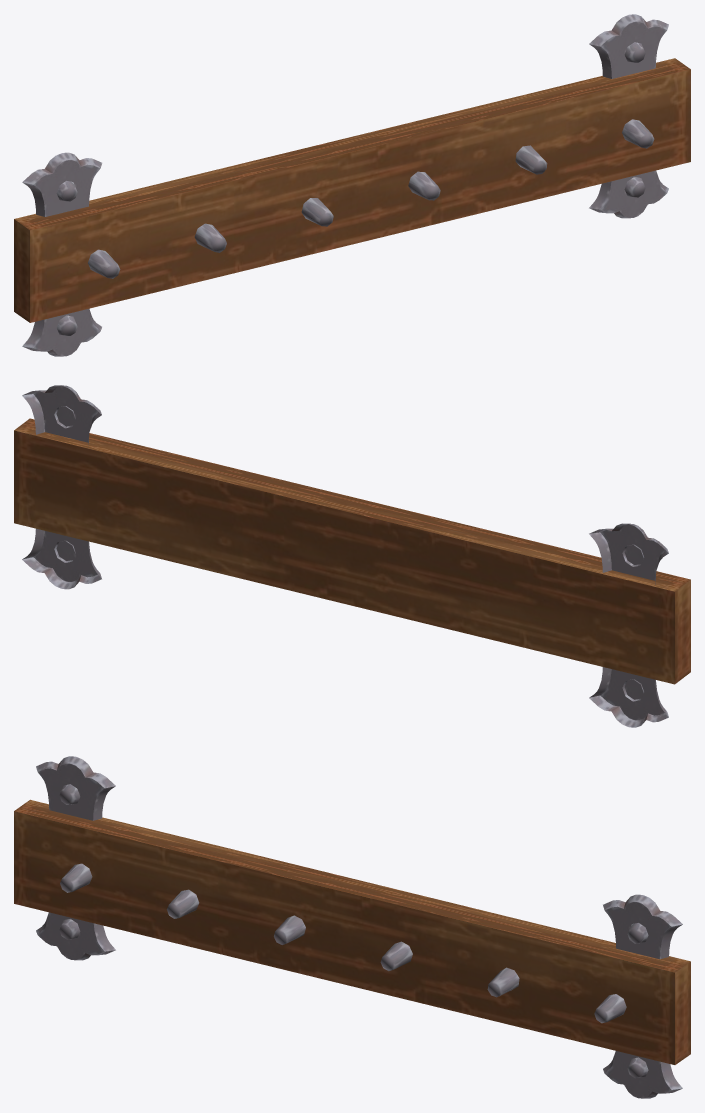
Rendered from Peg_Rack.gltf.
3 renders of one model, top to bottom at view 1: azimuth 30°, elevation 25°; view 2: azimuth 150°, elevation 25°; view 3: azimuth 330°, elevation 25°, orthographic.
Parts seen in each view (by area): view 1: Peg_Rack; view 2: Peg_Rack; view 3: Peg_Rack.
Part boxes in pixels (x1,y1,x2,y2): Peg_Rack: (14, 14, 690, 356); Peg_Rack: (14, 385, 690, 727); Peg_Rack: (14, 756, 690, 1098).
Size of the model in its own units: 1.18 by 0.3479 by 0.0957.
2 materials, 2 textured.
